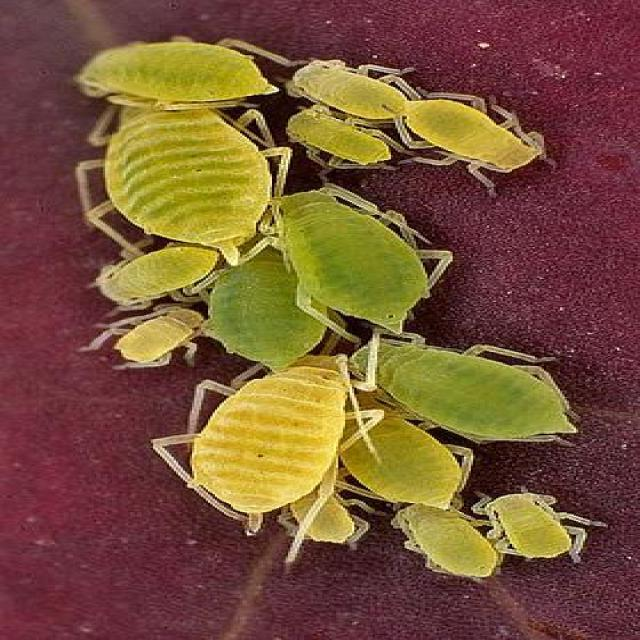aphid: (139, 349, 382, 544), (334, 300, 576, 450), (70, 86, 260, 256), (268, 182, 434, 348), (382, 87, 562, 200), (61, 29, 292, 102), (281, 44, 439, 130), (312, 414, 458, 502), (473, 481, 597, 580), (382, 506, 516, 584), (74, 247, 229, 310), (100, 311, 220, 366)
